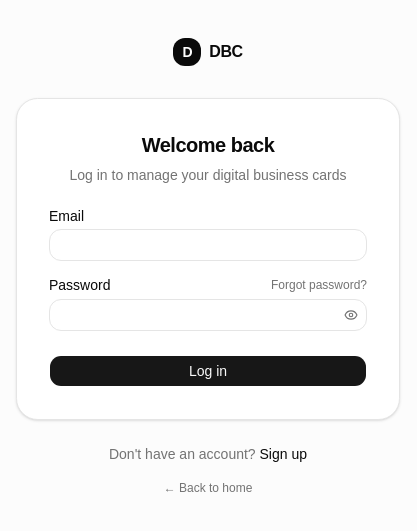
Test case: LoginPage › shows validation errors instead of submitting an empty form
Click the button "Log in" at (208, 371), box x1=49 y1=355 x2=367 y2=387
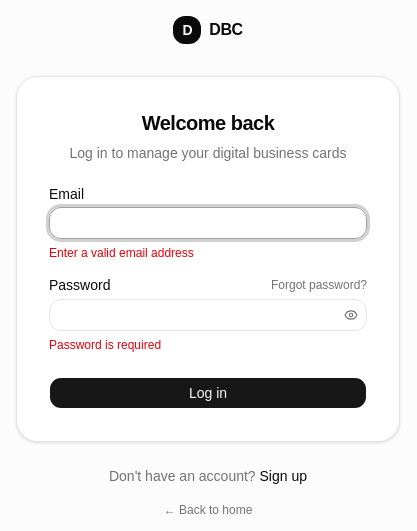
Now the text "Enter a valid email address" is shown, box x1=49 y1=246 x2=194 y2=260
Now the text "Password is required" is shown, box x1=49 y1=338 x2=161 y2=352
